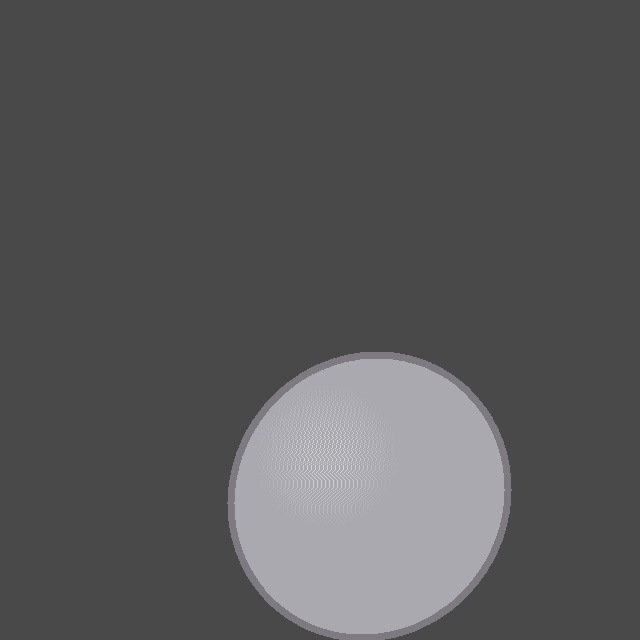lens: (231, 355, 507, 637)
